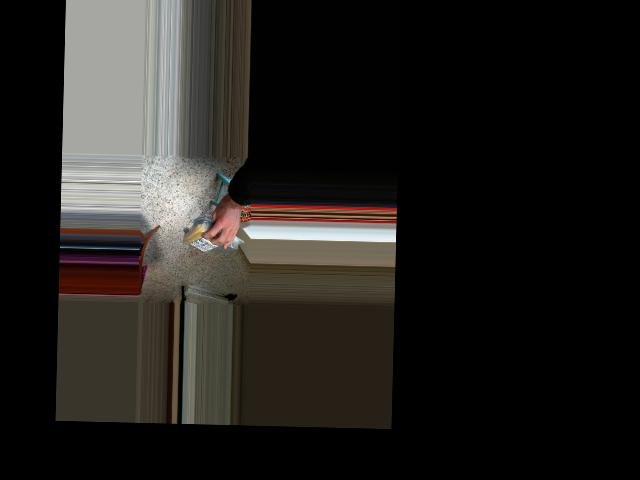cheese: (183, 222, 244, 254)
